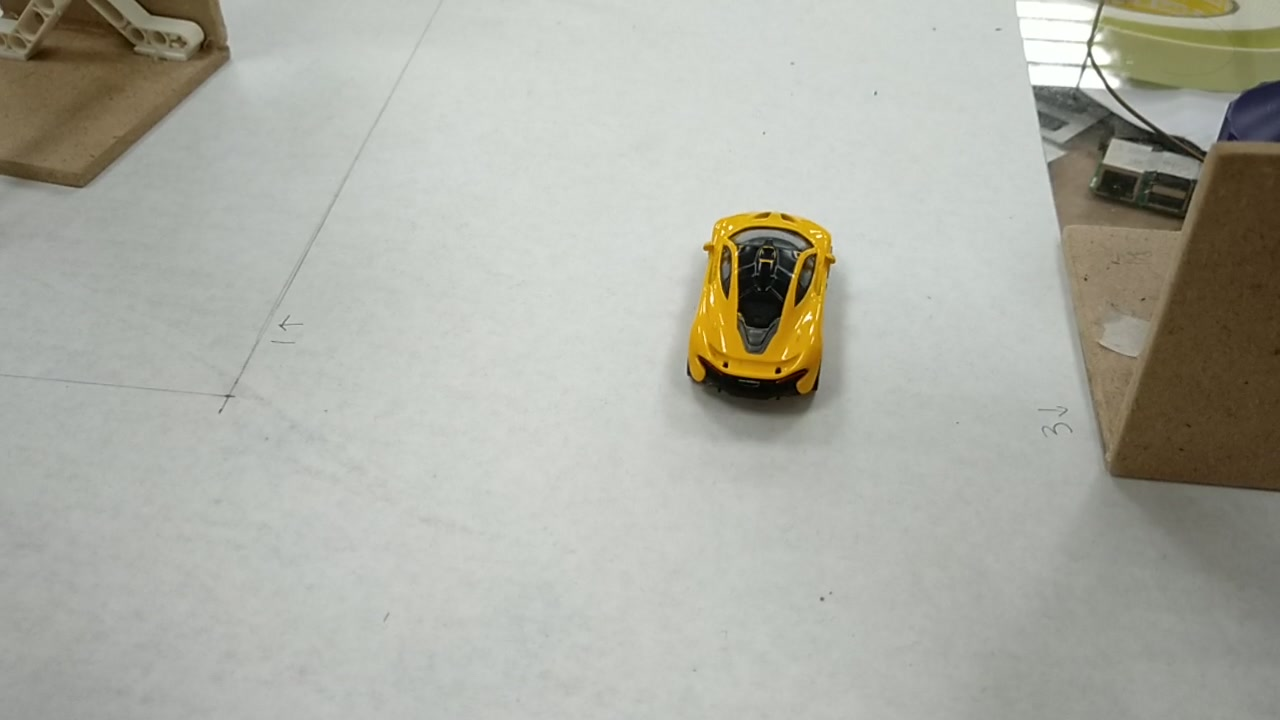car: (687, 208, 833, 386)
